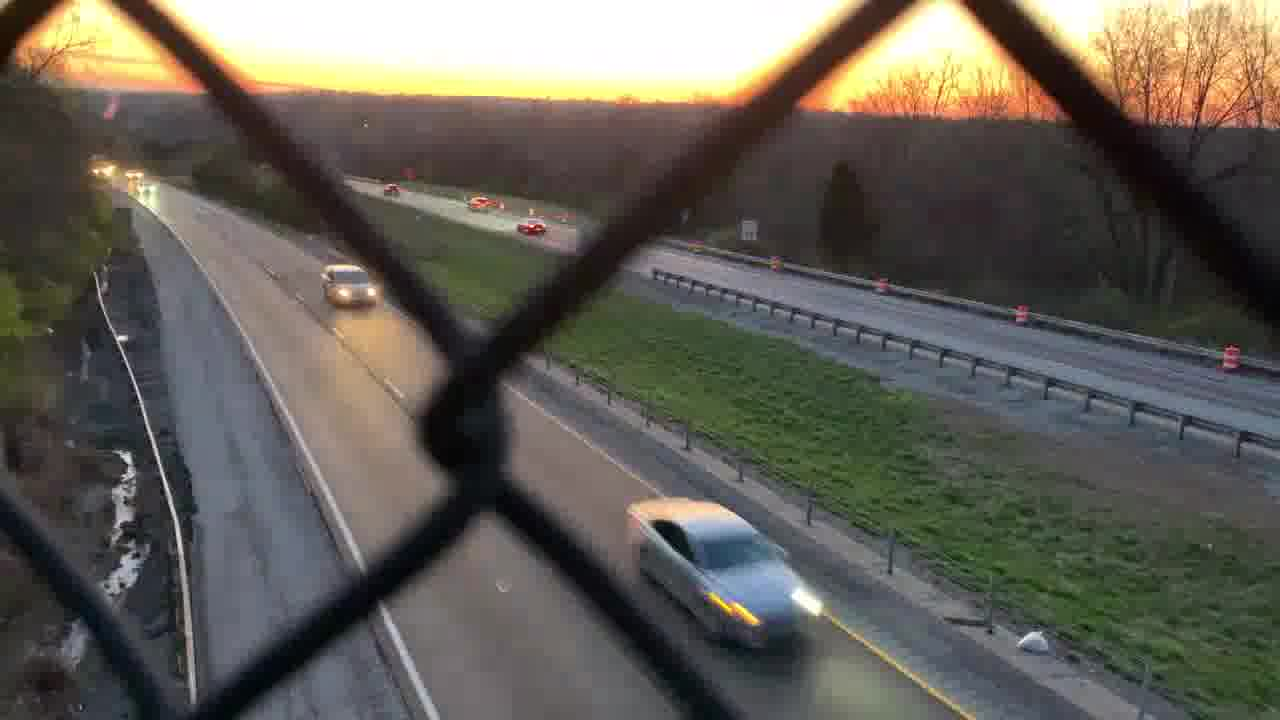largeCar: (319, 262, 381, 308)
smallCar: (626, 490, 822, 662)
